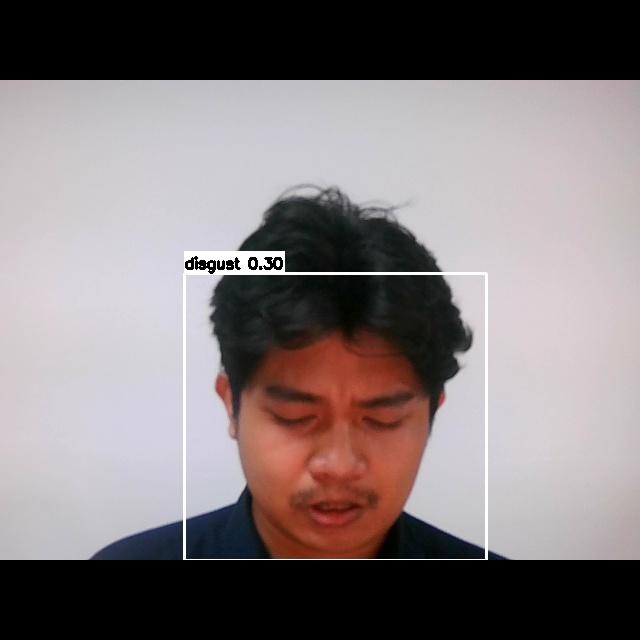Angry: (242, 369, 430, 541)
